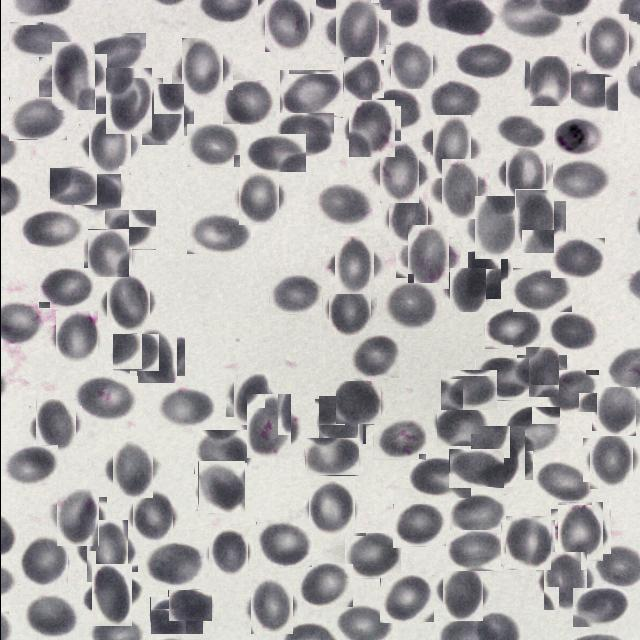red blood cell: (100, 73, 156, 129), (44, 48, 100, 104), (278, 70, 342, 118), (329, 4, 384, 59), (242, 398, 296, 454), (474, 430, 528, 484), (74, 376, 138, 420), (401, 231, 454, 284), (142, 542, 203, 588), (80, 33, 145, 76), (554, 505, 606, 558), (508, 194, 560, 247), (580, 17, 632, 70), (80, 525, 132, 577), (101, 277, 153, 329), (83, 119, 135, 171), (136, 89, 188, 141), (345, 103, 397, 155), (468, 202, 520, 254), (381, 282, 437, 330), (306, 483, 357, 535), (373, 146, 424, 198), (186, 213, 250, 254), (343, 533, 400, 579), (176, 43, 227, 94), (539, 556, 590, 607), (425, 121, 476, 172), (512, 268, 571, 312), (379, 575, 433, 623), (255, 522, 311, 568), (193, 430, 251, 474), (8, 97, 66, 141), (314, 184, 372, 228), (86, 570, 137, 620), (585, 435, 636, 485), (260, 0, 312, 49), (20, 210, 82, 251), (408, 457, 470, 498), (503, 407, 559, 452), (18, 536, 68, 586), (500, 148, 550, 198), (502, 518, 552, 568), (52, 492, 102, 542), (195, 462, 245, 512), (275, 113, 333, 156), (247, 582, 296, 632), (222, 78, 275, 124), (534, 461, 592, 503), (156, 386, 214, 428), (560, 69, 618, 111), (552, 160, 611, 201), (107, 445, 156, 494), (329, 241, 378, 290), (52, 314, 100, 364), (483, 308, 540, 350), (186, 124, 240, 168), (298, 563, 352, 607), (454, 42, 516, 80), (438, 568, 487, 616), (434, 165, 484, 212), (446, 530, 503, 571), (439, 370, 496, 411), (24, 594, 78, 637), (474, 358, 528, 401), (128, 492, 176, 540), (325, 286, 373, 334), (132, 332, 180, 380), (388, 42, 436, 90), (316, 398, 364, 446), (38, 268, 94, 309), (449, 494, 505, 535), (571, 588, 628, 628), (245, 134, 305, 172), (392, 504, 445, 547), (545, 370, 598, 413), (8, 22, 71, 58), (235, 174, 282, 222), (384, 194, 430, 242), (32, 402, 78, 450), (2, 444, 57, 484), (350, 335, 401, 378), (371, 89, 423, 131), (436, 404, 488, 446), (550, 238, 604, 278), (448, 449, 503, 488), (268, 275, 321, 315), (372, 420, 425, 460), (526, 58, 572, 104), (426, 83, 477, 124), (103, 210, 155, 250), (85, 230, 130, 276), (304, 438, 358, 476), (548, 312, 600, 351), (149, 597, 202, 635), (205, 530, 250, 574), (229, 376, 274, 420), (336, 380, 380, 425), (594, 389, 638, 433), (111, 334, 158, 372), (520, 351, 562, 393), (73, 174, 120, 211), (49, 168, 96, 205), (463, 254, 504, 296), (341, 59, 382, 100), (447, 270, 488, 310), (497, 116, 547, 148), (167, 590, 211, 622)
trophozoite: (552, 116, 604, 156)
